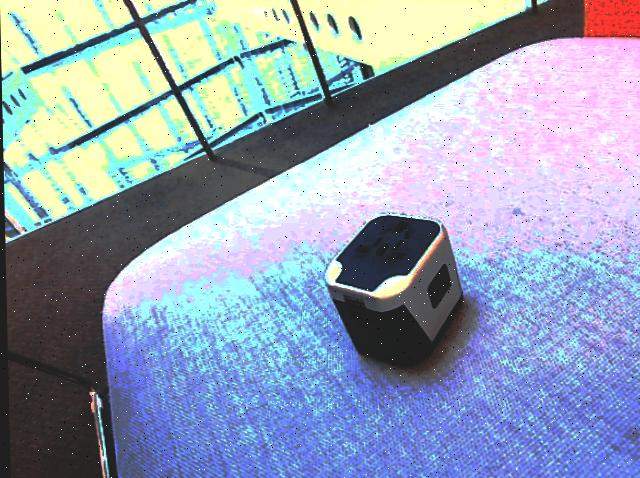adapter: (322, 214, 462, 366)
